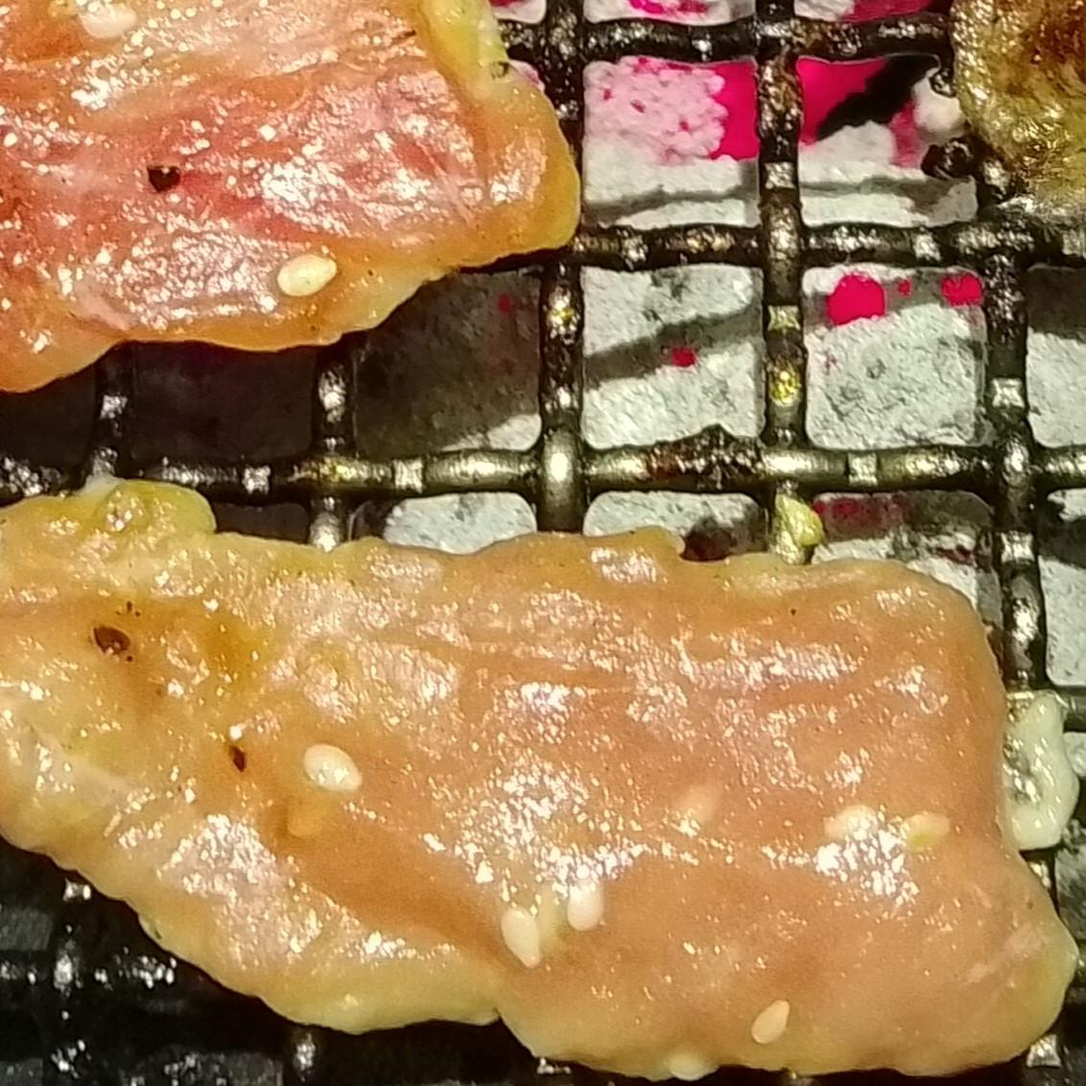Overcooked: (953, 0, 1085, 221)
Undercooked: (0, 478, 1085, 1085), (0, 0, 581, 398)
